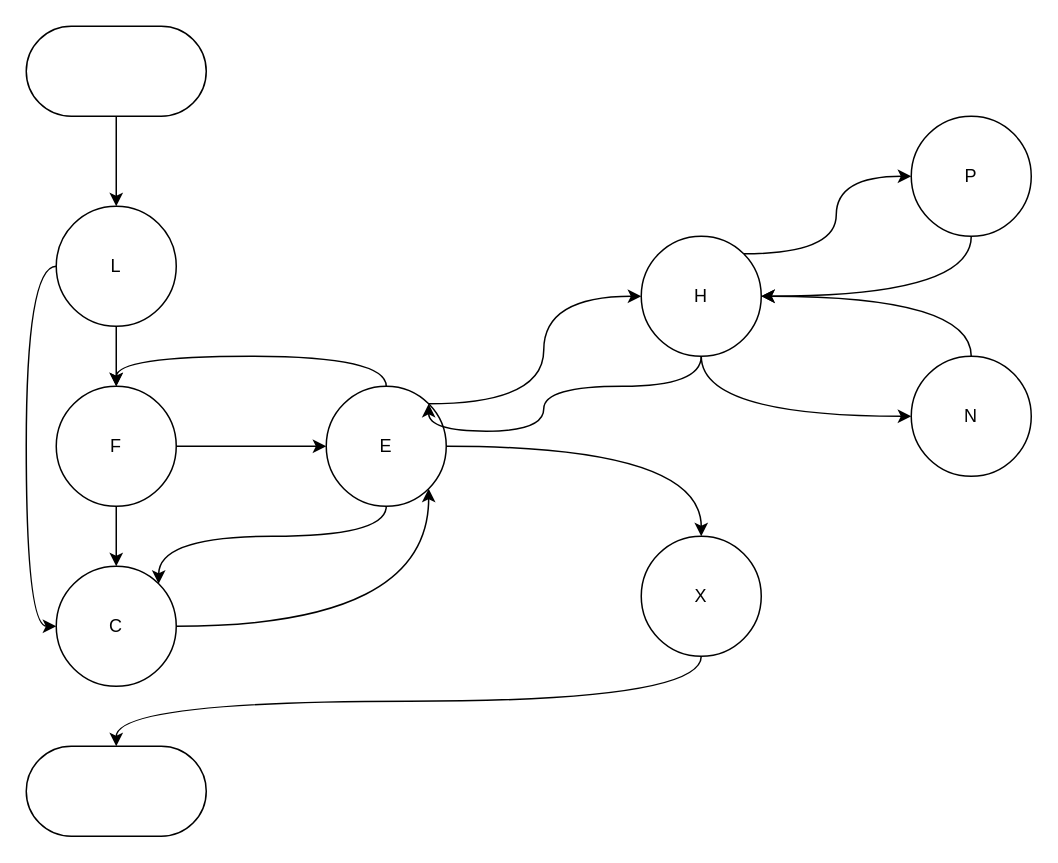
This 1058x863 diagram has some shape labels left out. The box of each missing label's shape, as (x1, y1, x2, y2) in pixels:
Кінець: (25, 745, 206, 836)
Початок: (25, 25, 206, 116)
